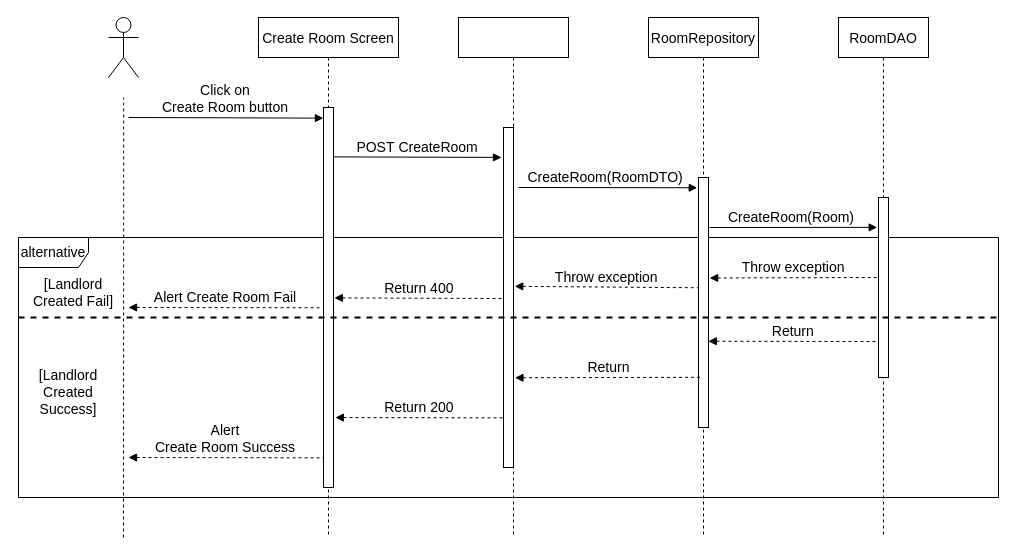
This 1017x556 diagram has some shape labels left out. Each missing label, with the centre of its shape:
Landlord: point 123,47
RoomController: point 513,277
